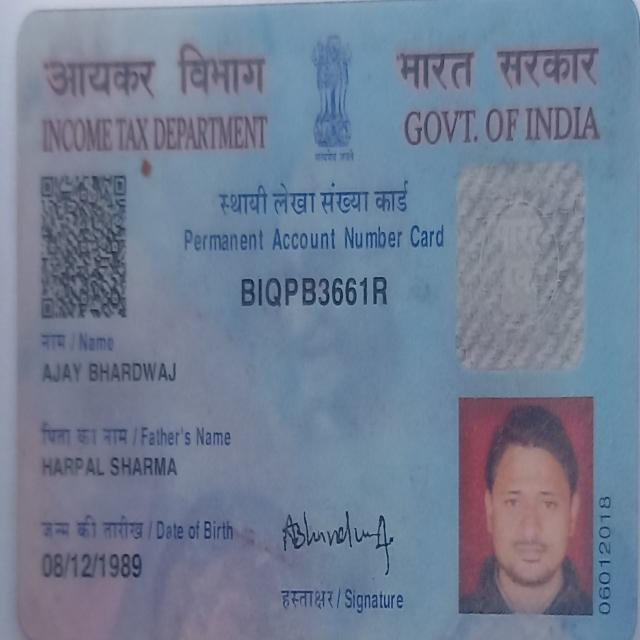pan_card: (17, 6, 640, 634)
